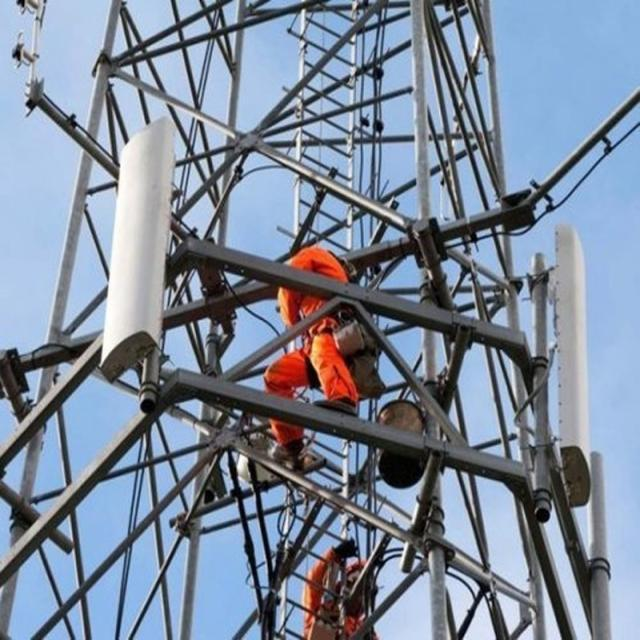non-critical vegetation: (8, 6, 604, 630)
